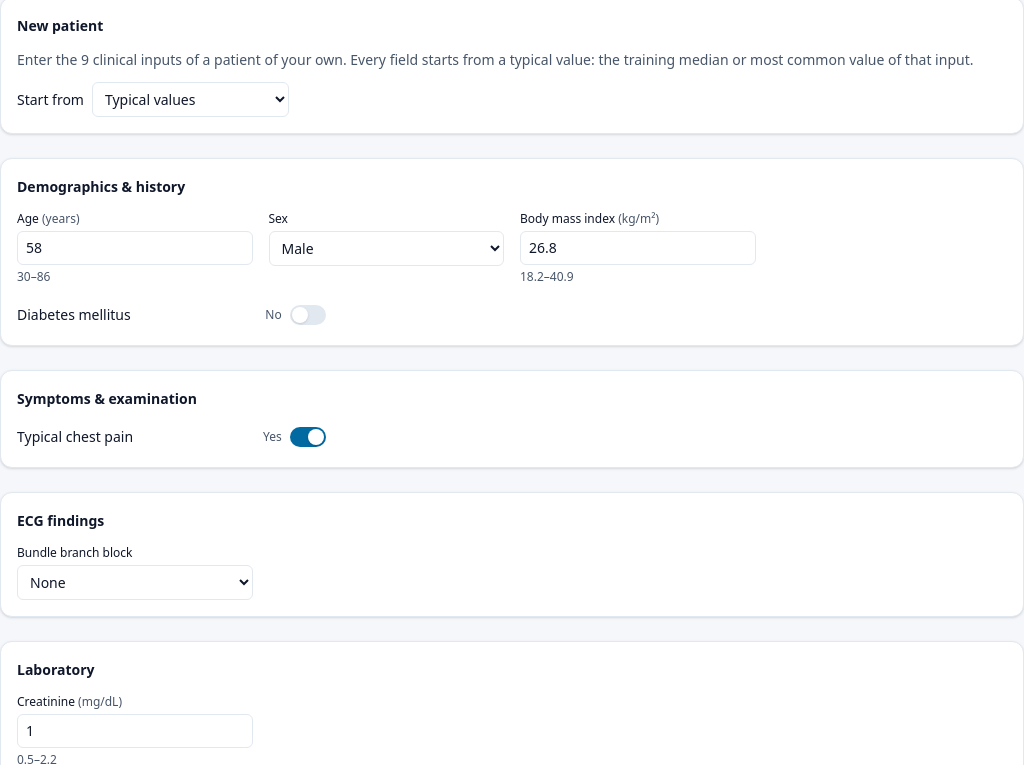
Test: New patient page (F2) › counts every field that needs attention: empty, fractional, out of range
Clear the number field labelled "Age (years)" at {"x": 135, "y": 248}, box [17,231,252,265]
(page scrolled)
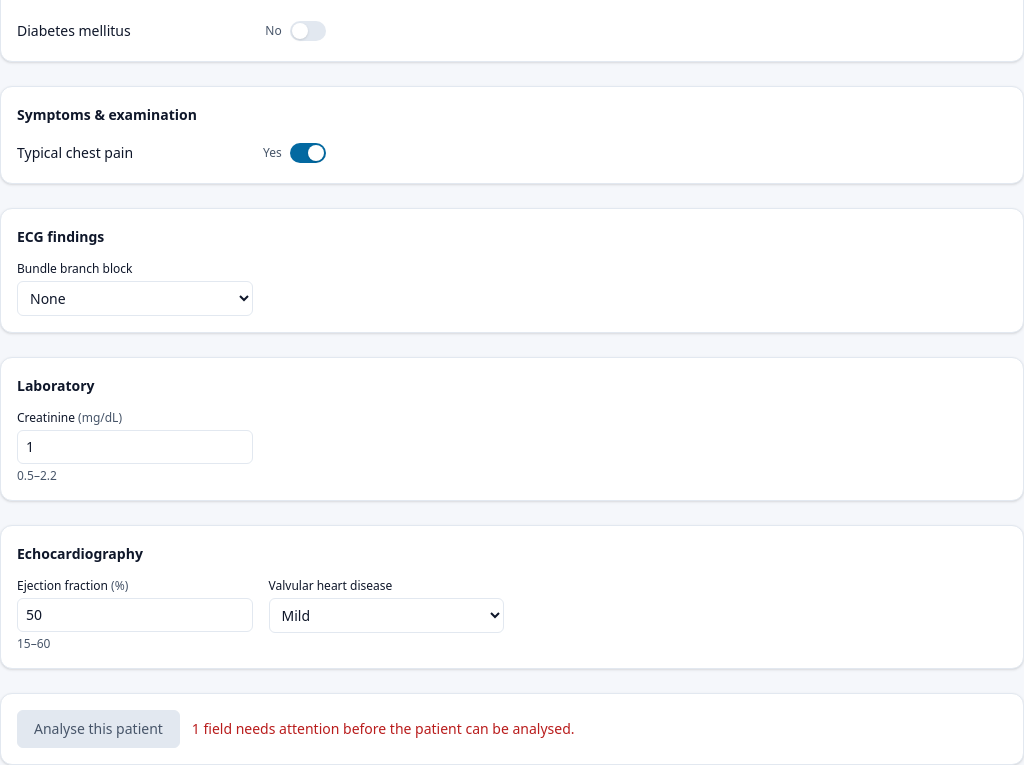
Replace the text in the number field labelled "Ejection fraction (%)" with "40.5" at {"x": 135, "y": 615}, box [17,598,252,632]
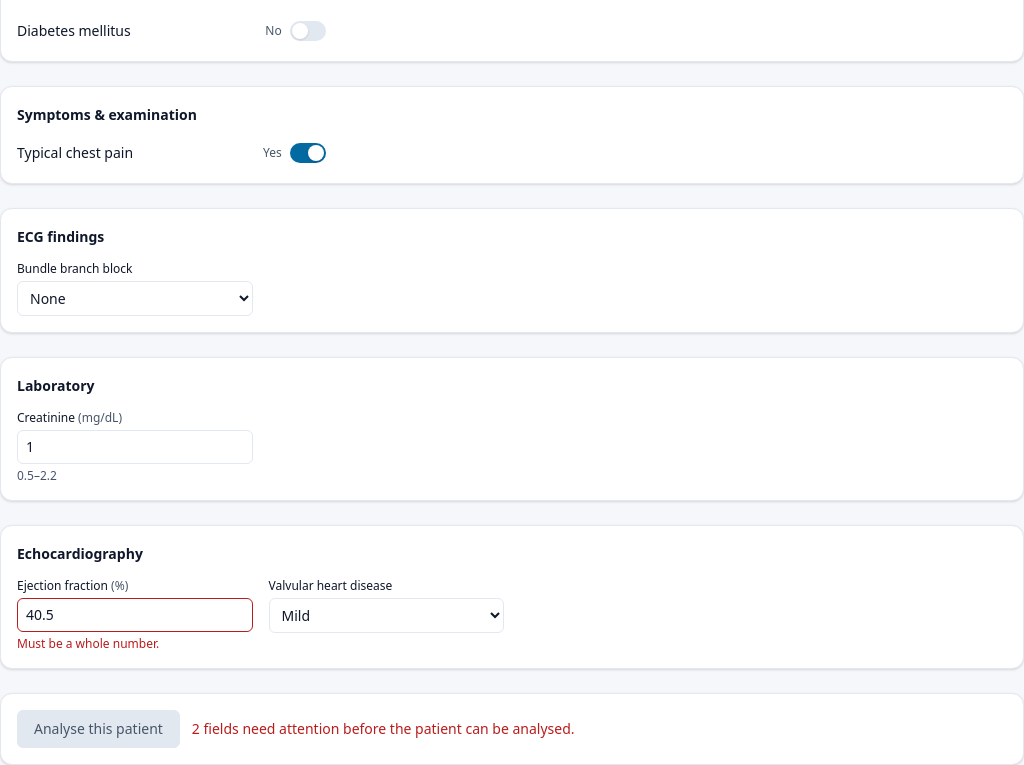
Replace the text in the number field labelled "Creatinine (mg/dL)" with "9" at {"x": 135, "y": 447}, box [17,430,252,464]
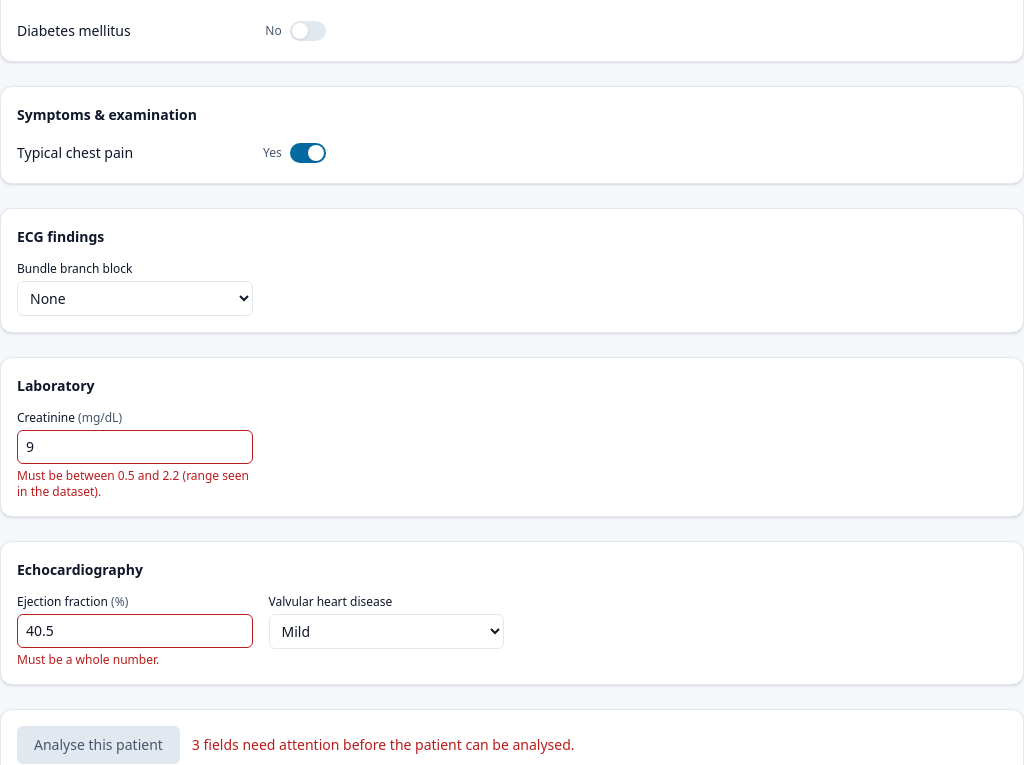
Expected: the text "Must be a whole number." is shown, [17,651,159,668]
Expected: the text "Must be between 0.5 and 2.2 (range seen in the dataset)." is shown, [17,468,252,500]
Expected: the message reads "3 fields need attention before the patient can be analysed.", [192,735,574,754]
